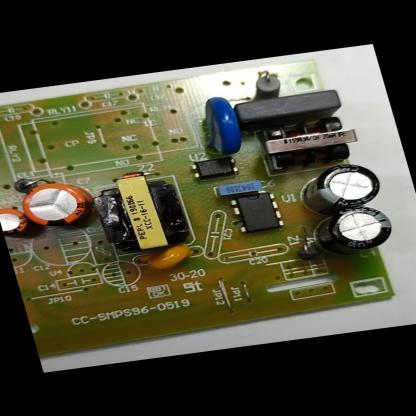Cap1: (14, 171, 105, 235)
Cap2: (0, 200, 38, 240)
Cap3: (287, 156, 390, 219)
Cap4: (300, 198, 404, 258)
MOSFET: (227, 186, 291, 238)
Mov: (192, 90, 254, 161)
Resistor: (240, 65, 294, 100)
Transformer: (85, 165, 203, 258), (251, 110, 370, 176)
